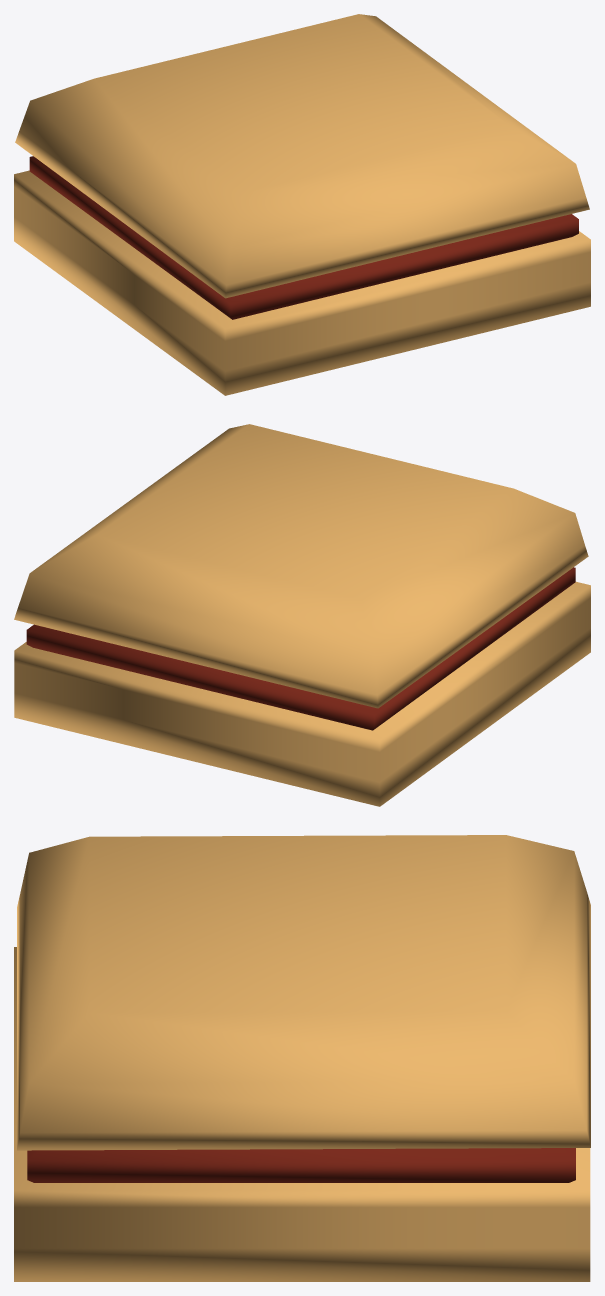
File: burger.glb
The picture shows the model from 3 angles, top to bottom: view 1: azimuth 30°, elevation 25°; view 2: azimuth 150°, elevation 25°; view 3: azimuth 270°, elevation 25°; orthographic projection. The views are drawn at different scales.
Parts seen in each view (by area): view 1: Cube.002, Cube, Cube.001; view 2: Cube.002, Cube, Cube.001; view 3: Cube.002, Cube, Cube.001.
Boxes of the visible parts, x1=… form: Cube.002: x1=15, y1=14, x2=589, y2=298; Cube: x1=14, y1=170, x2=590, y2=395; Cube.001: x1=29, y1=156, x2=578, y2=319; Cube.002: x1=14, y1=424, x2=588, y2=708; Cube: x1=14, y1=581, x2=590, y2=806; Cube.001: x1=26, y1=567, x2=575, y2=730; Cube.002: x1=17, y1=835, x2=590, y2=1150; Cube: x1=14, y1=947, x2=590, y2=1281; Cube.001: x1=27, y1=1148, x2=575, y2=1182.
Bounding box in the file's own units: 8.03 × 3.63 × 8.04.
